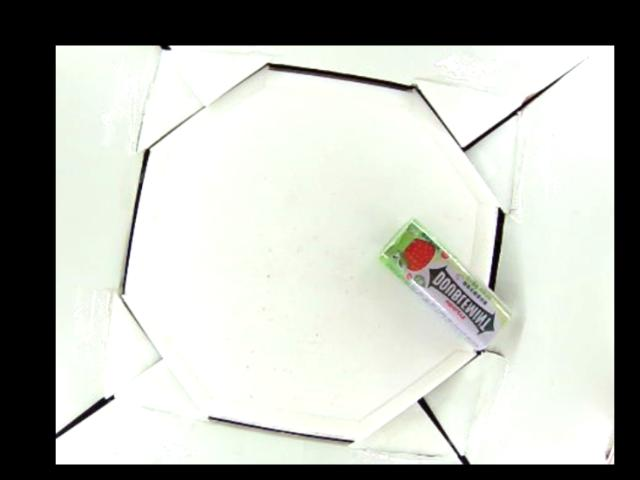Bottle: (379, 218, 507, 351)
